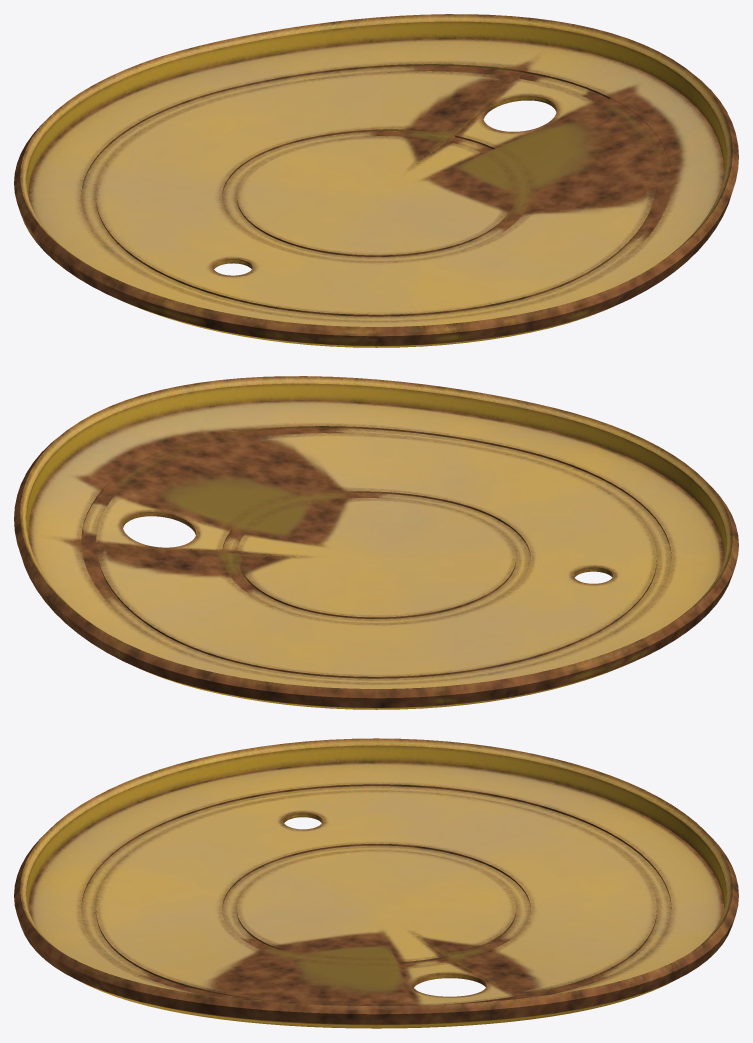
Rendered from Barrel_Yellow_Lid.glb.
3 views of the same model, one above another, from view 1: azimuth 30°, elevation 25°; view 2: azimuth 150°, elevation 25°; view 3: azimuth 270°, elevation 25° (orthographic).
Parts seen in each view (by area): view 1: Barrel_Yellow_Lid; view 2: Barrel_Yellow_Lid; view 3: Barrel_Yellow_Lid.
Part boxes in pixels (box(x1,y1,x2,y2)): Barrel_Yellow_Lid: box(14, 14, 738, 347); Barrel_Yellow_Lid: box(14, 376, 738, 709); Barrel_Yellow_Lid: box(14, 738, 738, 1028).
Bounding box in the file's own units: 0.592 × 0.0522 × 0.592.
1 material, 1 textured.
